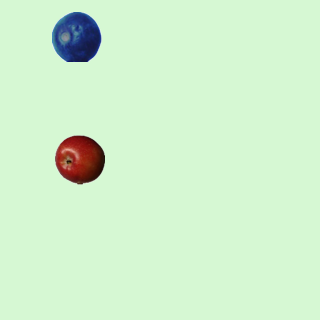Apple Braeburn: (54, 134, 104, 184)
Huckleberry: (51, 11, 101, 61)
